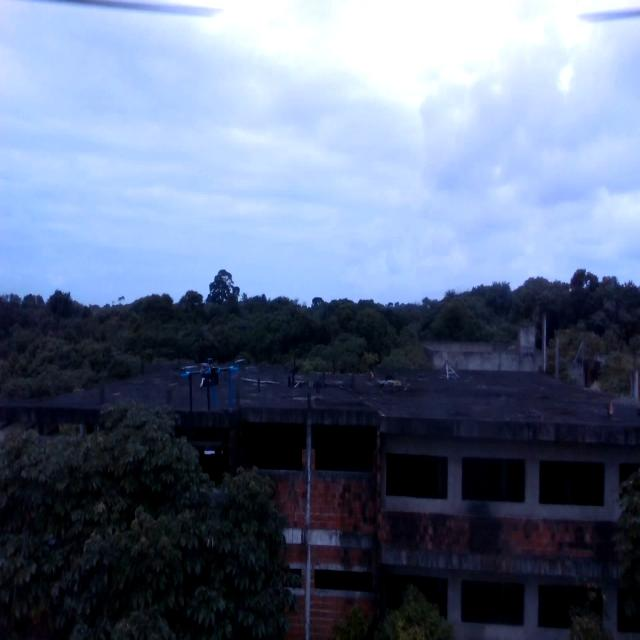-uav-: (169, 332, 247, 432)
